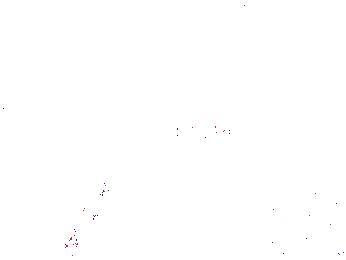glassfish: (65, 161, 134, 251), (198, 130, 281, 182)
redtail glassfish: (172, 115, 232, 147)
